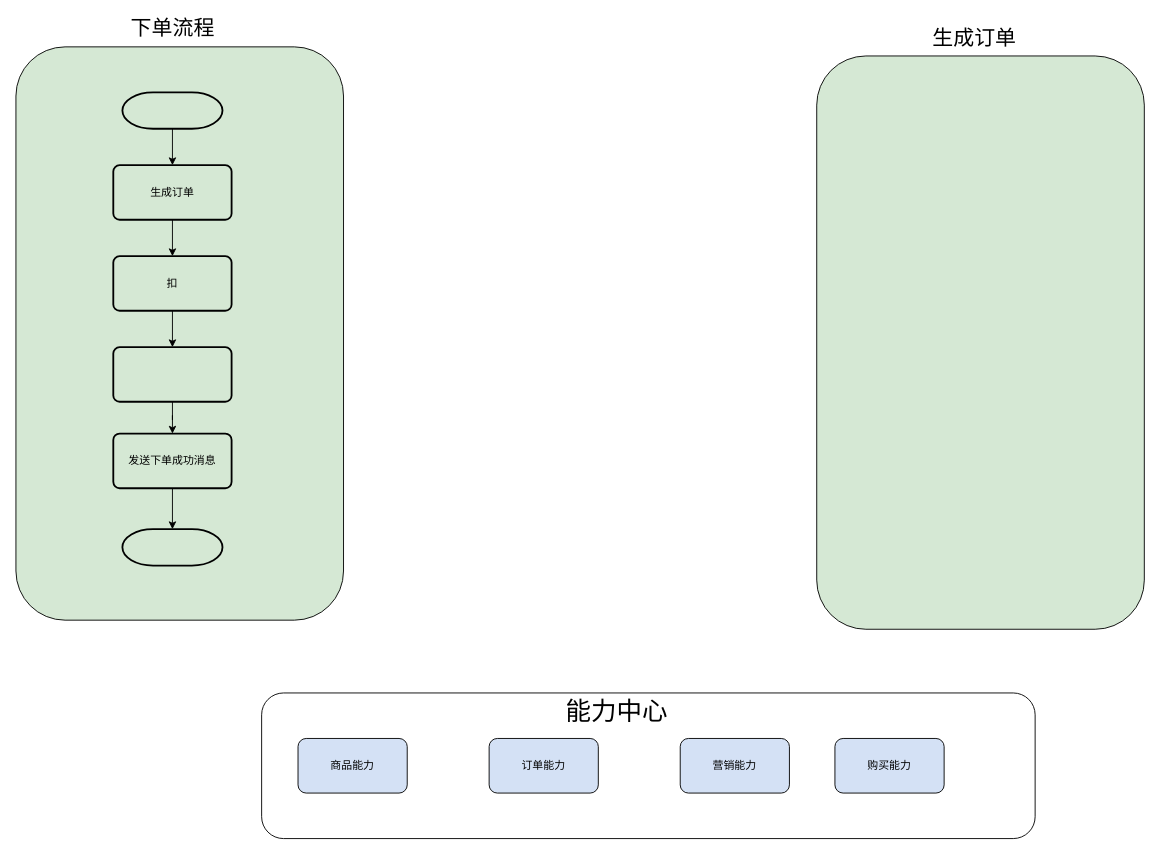
This 1160x854 diagram has some shape labels left out. Each missing label, with the box of its shape:
开始: (121, 91, 223, 129)
扣智米: (112, 346, 232, 402)
结束: (121, 528, 223, 566)
